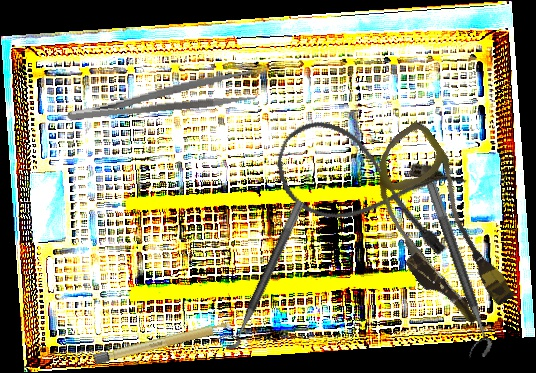Cannula: (342, 117, 535, 337), (262, 109, 472, 263)
Dressing Forceps: (63, 68, 259, 126)
Fixation Ring: (411, 181, 496, 362), (214, 193, 306, 353)
Scalpel Handle: (92, 319, 235, 366)
